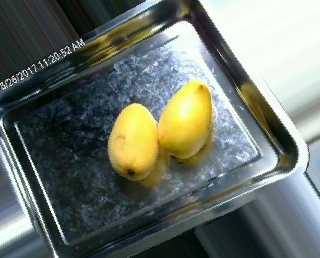Mango: (155, 78, 217, 156), (106, 97, 160, 183)
